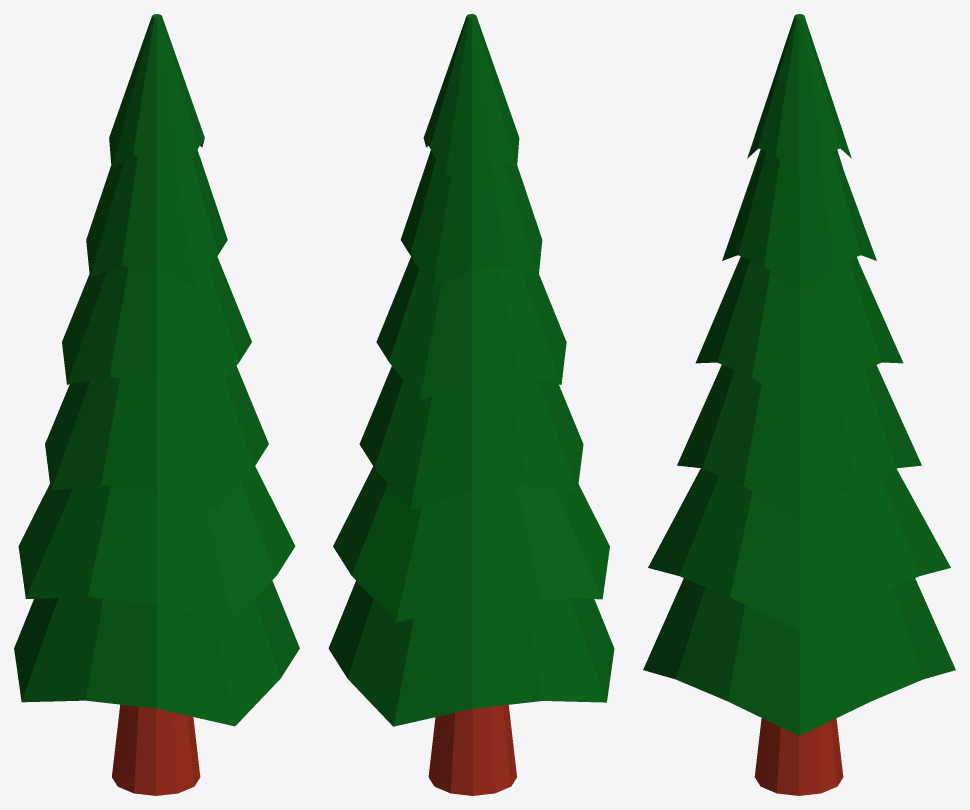
Rendered from Tree_normal3.fbx.
3 views of the same model, side by side, from view 1: azimuth 30°, elevation 25°; view 2: azimuth 150°, elevation 25°; view 3: azimuth 270°, elevation 25° (orthographic).
Parts seen in each view (by area): view 1: Cylinder.005; view 2: Cylinder.005; view 3: Cylinder.005.
Part boxes in pixels (x1,y1,x2,y2): Cylinder.005: [14, 14, 299, 795]; Cylinder.005: [328, 14, 614, 795]; Cylinder.005: [643, 14, 955, 795].
Size of the model in its own units: 157 by 421 by 157.
